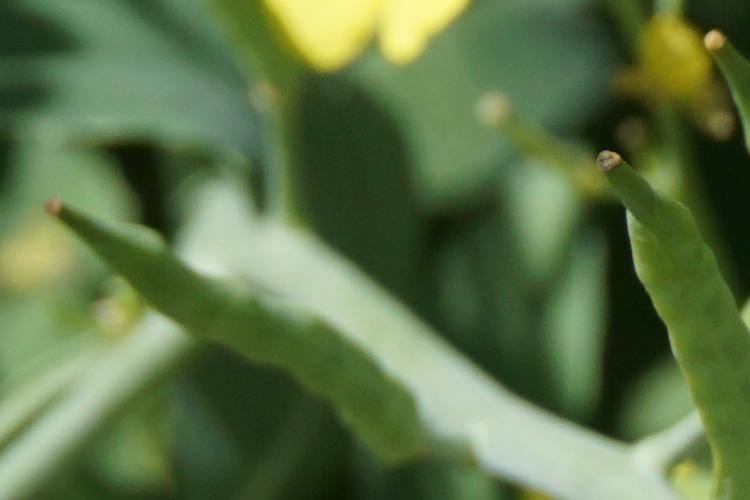pod: (44, 196, 440, 467), (612, 151, 750, 468), (487, 101, 604, 199), (686, 28, 750, 144)
